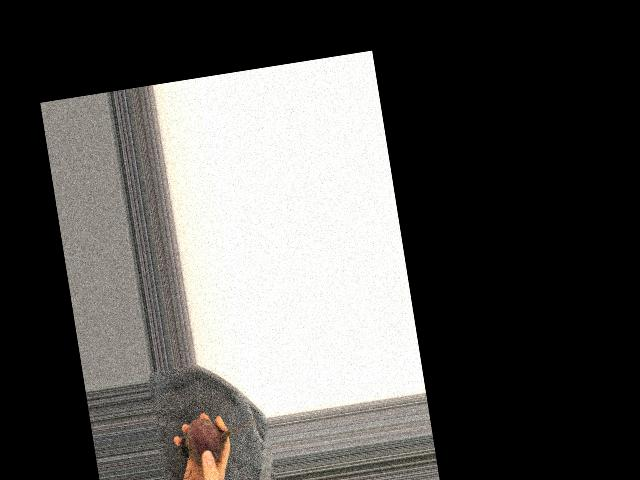beet: (177, 409, 261, 469)
